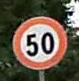limite 50: (10, 15, 67, 69)
